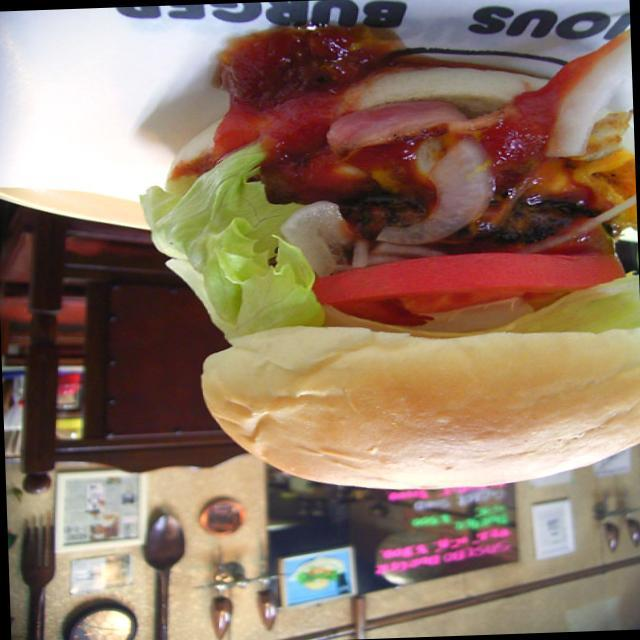Hamburger: (137, 5, 640, 504)
